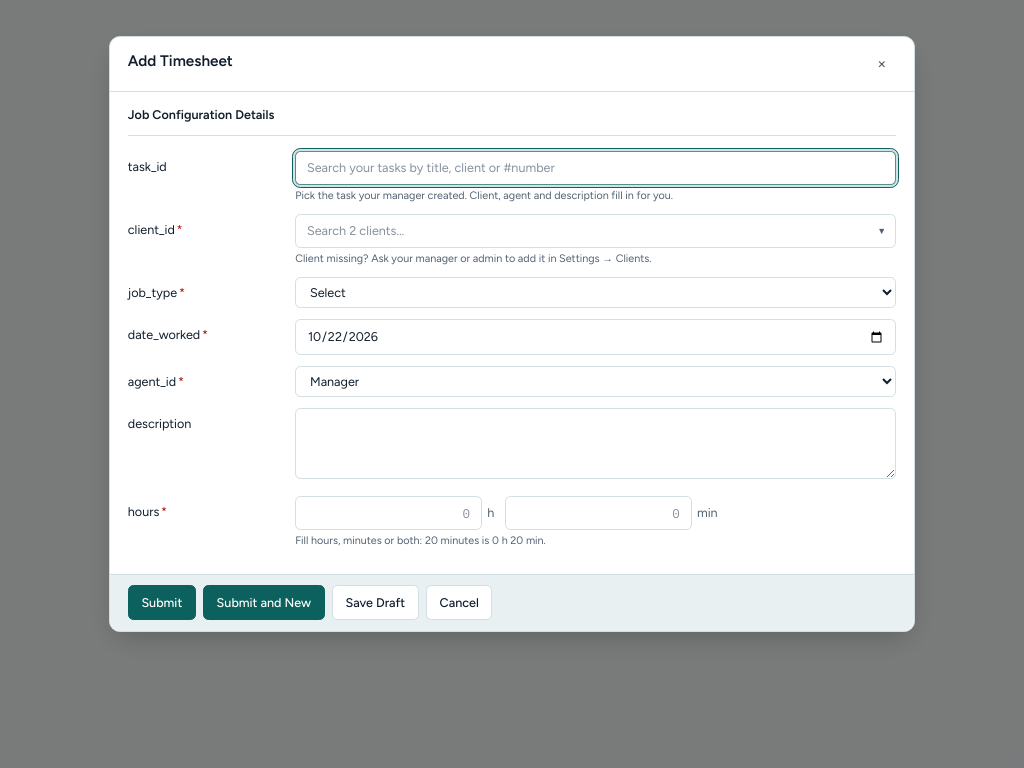
Test: people can search their tasks and change the pick
This screenshot has width=1024, height=768.
Focus the field with id "ts-task_id" at [596, 168], box [295,150,896,185]
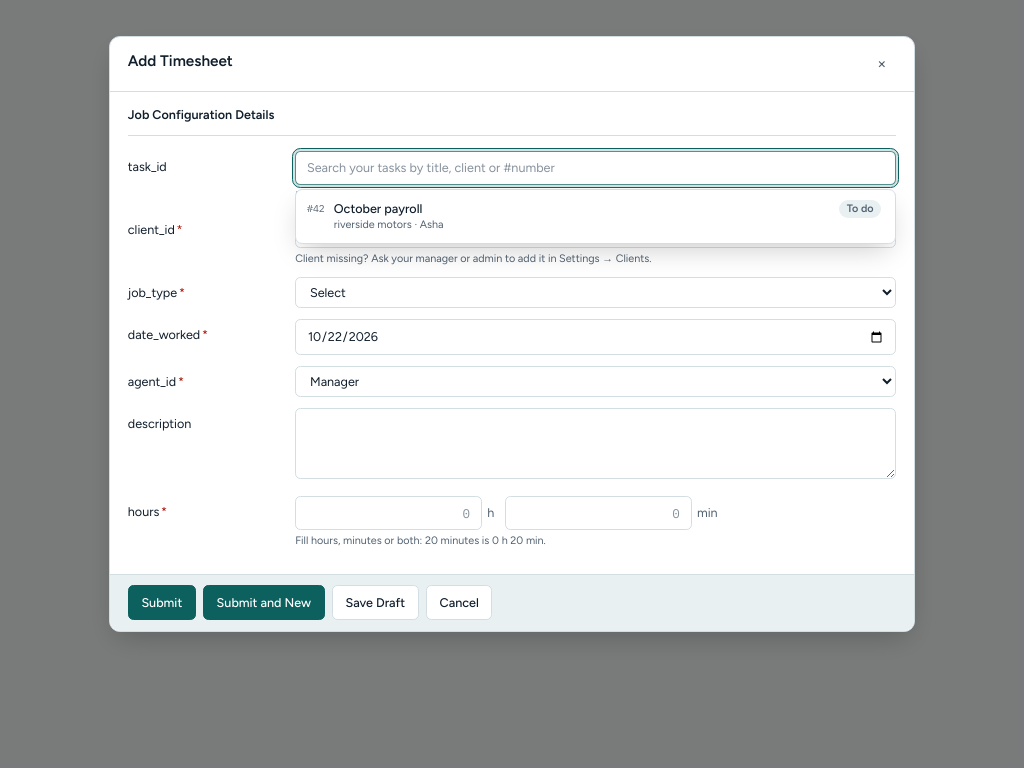
Click the option "#42 October payroll riverside motors · Asha To do" at [378, 209], box [296,193,895,240]
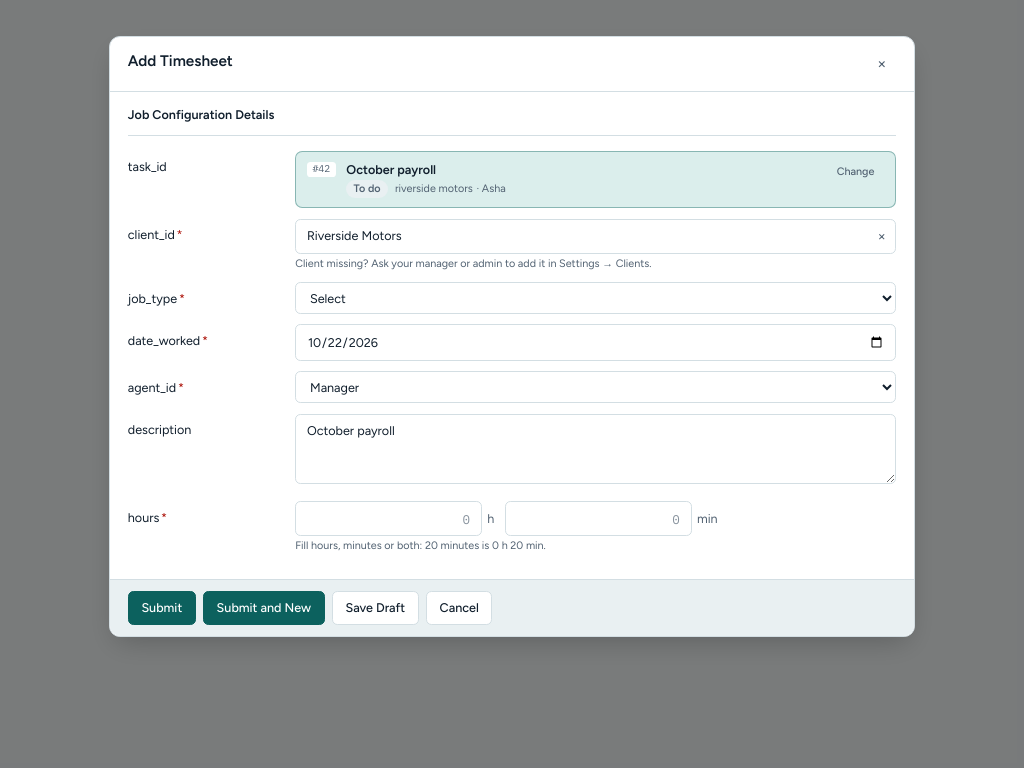
Click the button "Change" at [856, 172], box [827,160,884,184]
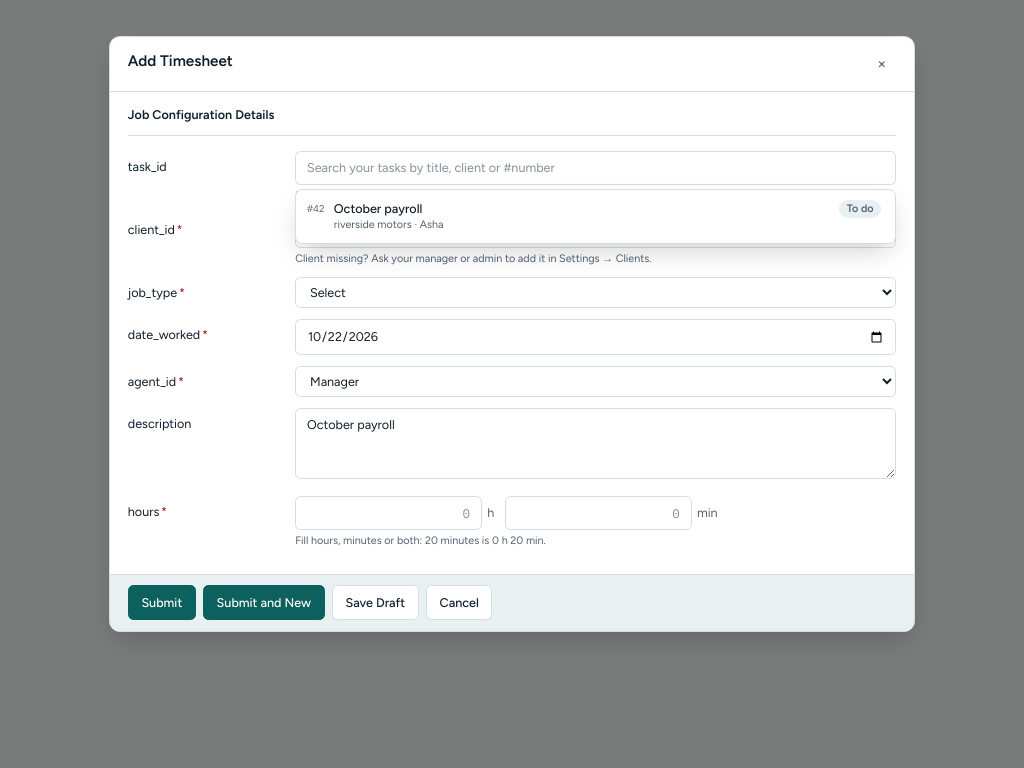
Expected: the field with id "ts-task_id" is shown, [295,150,896,185]
